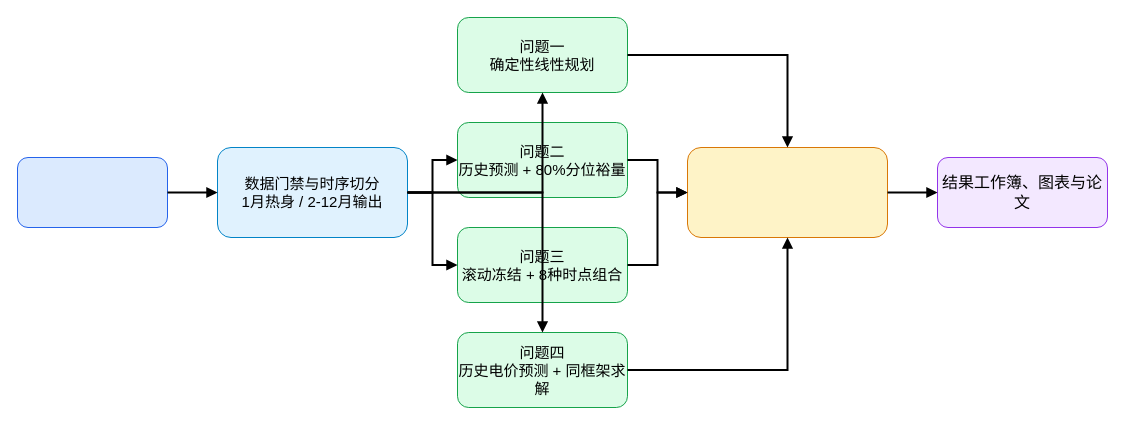
The diagram is 1125 pixels wide and 425 high, and some of its shapes have lost their labels. Each missing label, with the box of its shape:
逐日回测与费用结算 约束回代 / 灵敏度分析: (686, 146, 888, 238)
题目与附件数据: (16, 156, 168, 228)
